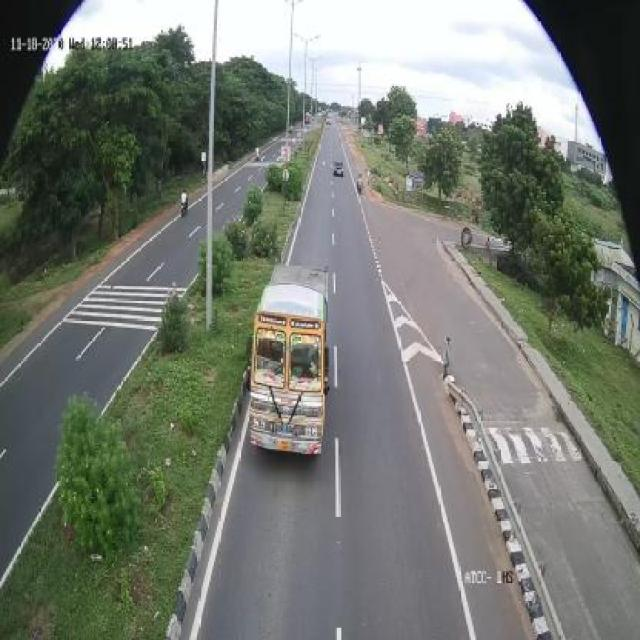car: (330, 153, 348, 184)
